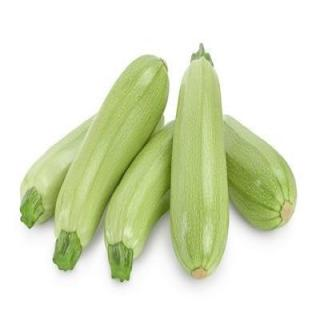Zucchini: (53, 56, 168, 269), (170, 45, 228, 278), (105, 123, 173, 280), (224, 117, 296, 229), (20, 118, 92, 227)
